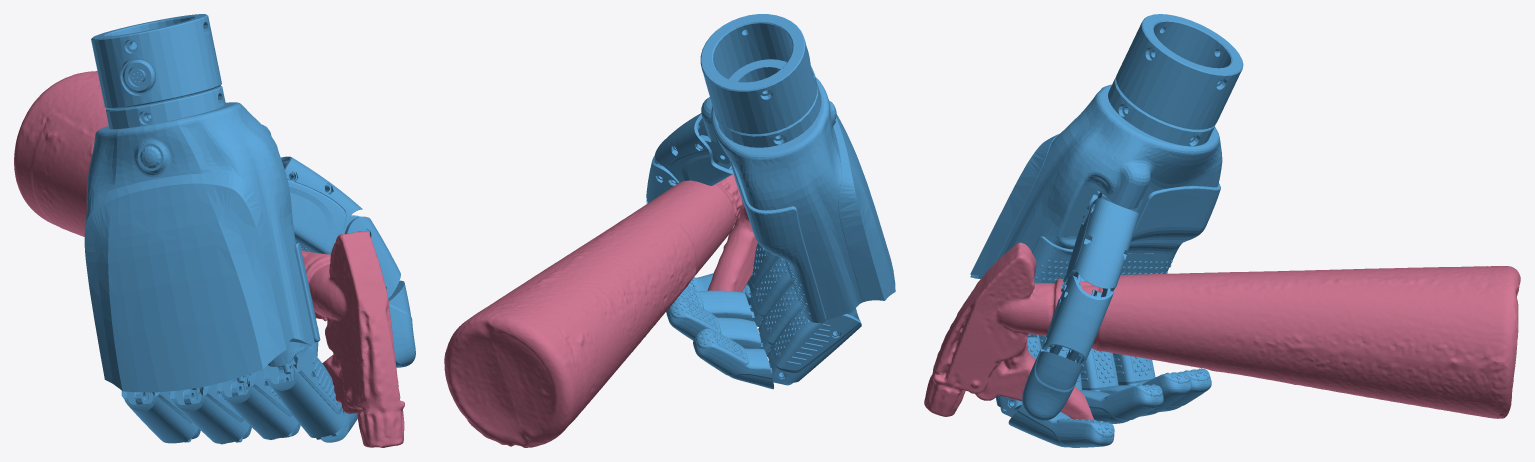
3 views of the same model, side by side, from view 1: azimuth 30°, elevation 25°; view 2: azimuth 150°, elevation 25°; view 3: azimuth 270°, elevation 25° (orthographic). The views are drawn at different scales.
Visible parts, largest first — view 1: 2; view 2: 2; view 3: 2.
Boxes of the visible parts, left/top/right/bottom form: 2: left=14, top=14, right=415, bottom=447; 2: left=444, top=14, right=895, bottom=447; 2: left=924, top=14, right=1520, bottom=447.
Size of the model in its own units: 0.1344 by 0.1922 by 0.2685.
